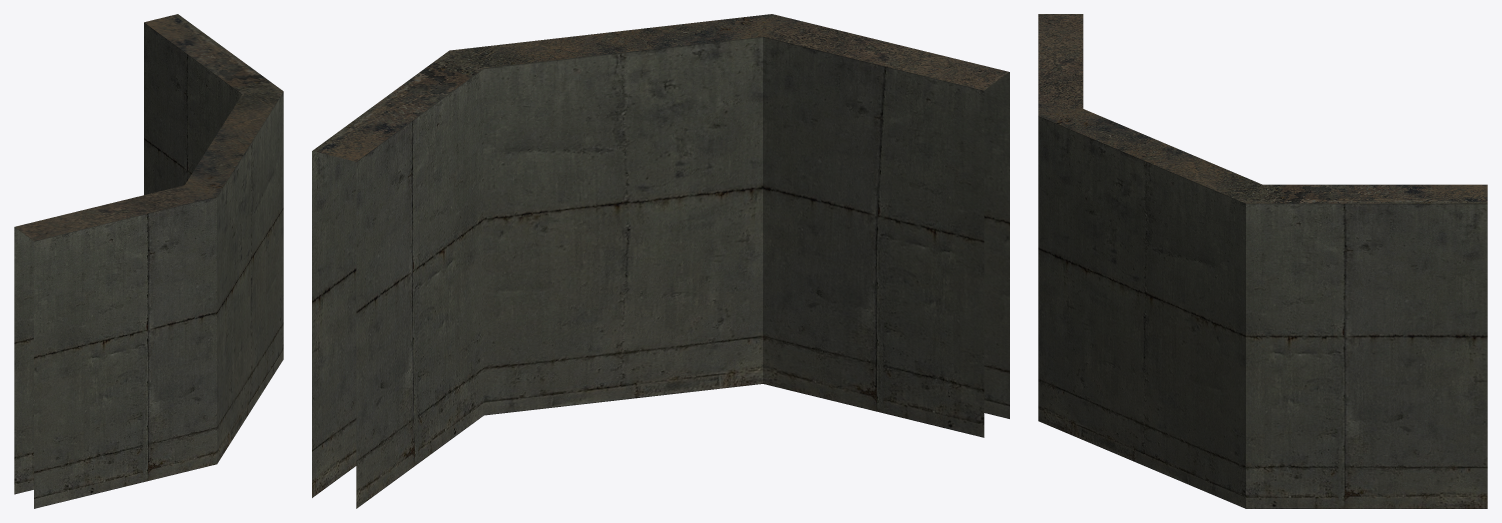
The model's file is wall_rg_1_m2a_1.obj.
The picture shows the model from 3 angles, left to right: view 1: azimuth 30°, elevation 25°; view 2: azimuth 150°, elevation 25°; view 3: azimuth 270°, elevation 25°; orthographic projection. The views are drawn at different scales.
Visible parts, largest first — view 1: wall_rg_1_m2a_1; view 2: wall_rg_1_m2a_1; view 3: wall_rg_1_m2a_1.
Part boxes in pixels (<box>): wall_rg_1_m2a_1: <box>14,14,283,508</box>; wall_rg_1_m2a_1: <box>312,14,1009,508</box>; wall_rg_1_m2a_1: <box>1038,14,1487,508</box>.
Bounding box in the file's own units: 4 × 3 × 4.
